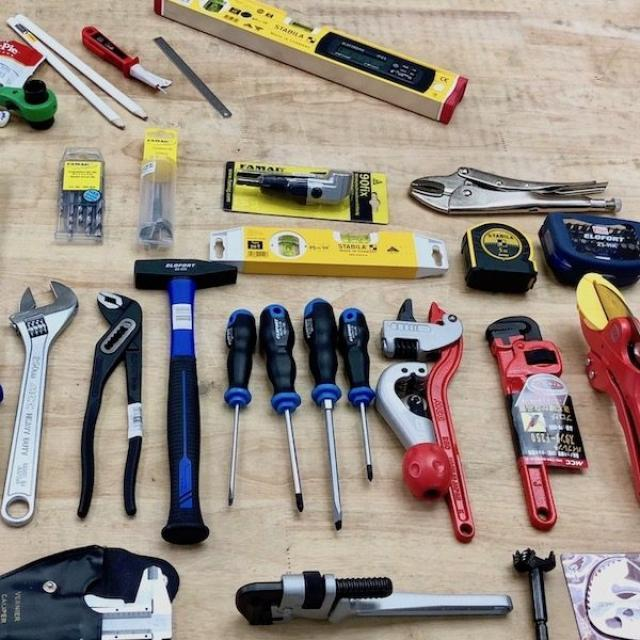hammer: (130, 256, 238, 550)
screwdriver: (256, 302, 313, 514), (302, 296, 347, 530), (220, 306, 259, 509), (337, 305, 380, 484)
